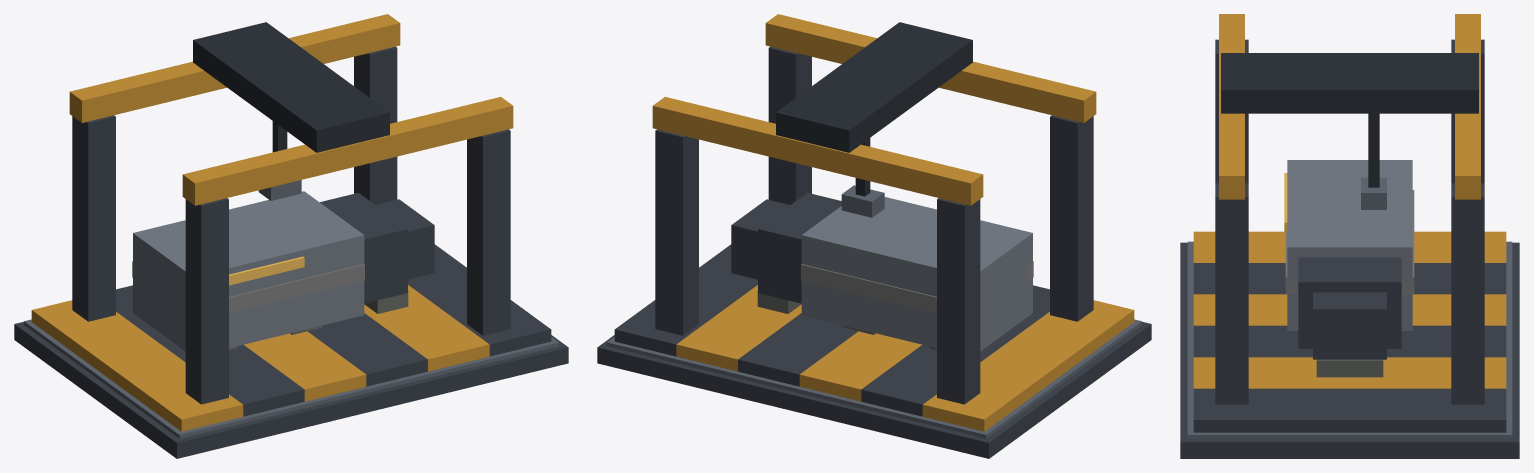
The model's file is drydock.obj.
The picture shows the model from 3 angles, left to right: view 1: azimuth 30°, elevation 25°; view 2: azimuth 150°, elevation 25°; view 3: azimuth 270°, elevation 25°; orthographic projection. The views are drawn at different scales.
Parts seen in each view (by area): view 1: drydock; view 2: drydock; view 3: drydock.
Boxes of the visible parts, x1,y1,x2,y2 form: drydock: [14, 14, 568, 458]; drydock: [597, 14, 1151, 458]; drydock: [1180, 14, 1519, 458].
Bounding box in the file's own units: 12.8 × 8.6 × 9.2.
